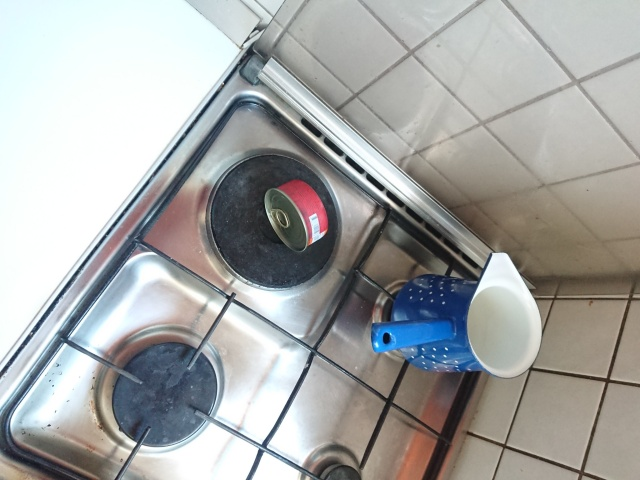Gavrilovic Pork Liver Pate 100g: (262, 176, 332, 255)
